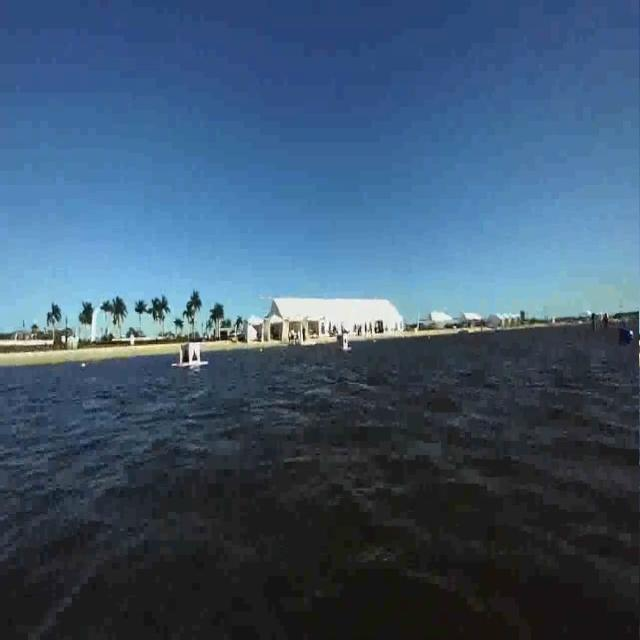blue-buoy: (617, 324, 635, 346)
